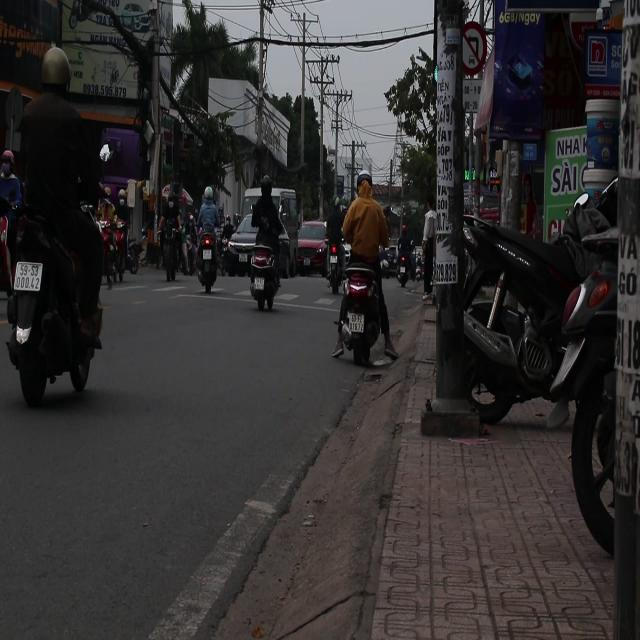car: (226, 216, 262, 276), (295, 223, 328, 277)
motorbike: (452, 210, 616, 426), (10, 190, 108, 412), (334, 255, 389, 375), (244, 230, 283, 310), (195, 208, 225, 294), (159, 211, 186, 283), (329, 238, 344, 292)
